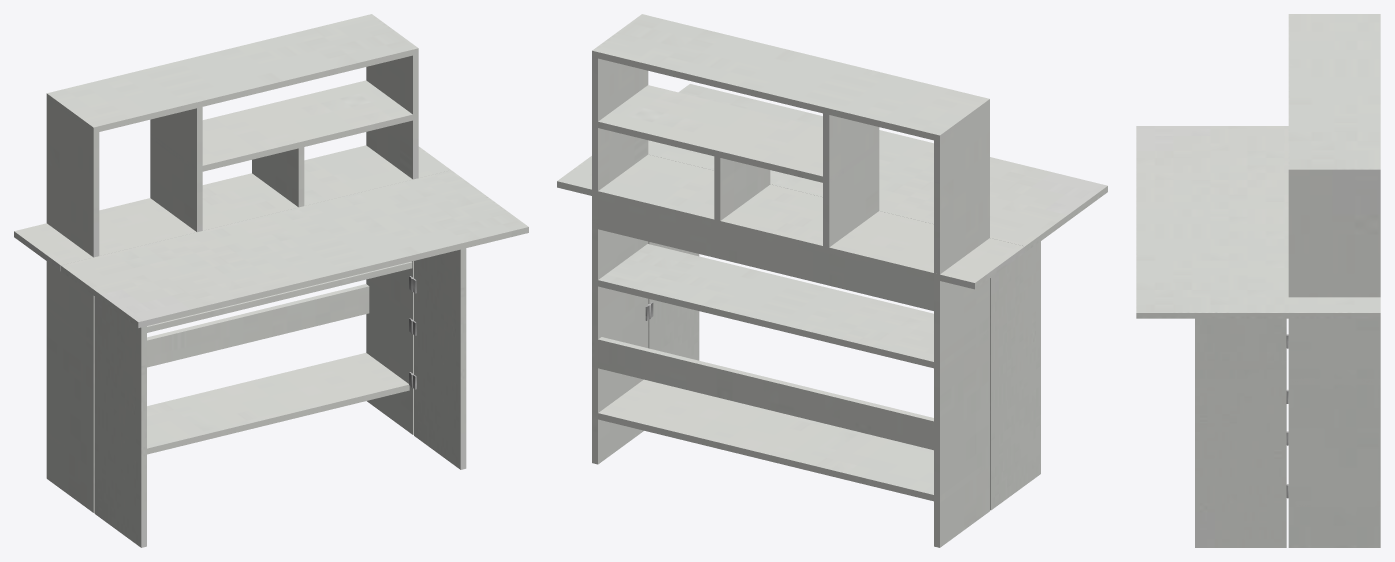
The model's file is study_table.obj.
The picture shows the model from 3 angles, left to right: view 1: azimuth 30°, elevation 25°; view 2: azimuth 150°, elevation 25°; view 3: azimuth 270°, elevation 25°; orthographic projection. The views are drawn at different scales.
Parts seen in each view (by area): view 1: Box006_1, Box004_1, Box012_1, Box016_1, Box017_1; view 2: Box006_1, Box012_1, Box004_1, Box016_1, Box017_1; view 3: Box006_1, Box004_1, Box017_1, Box012_1.
Part boxes in pixels (x1,y1,x2,y2): Box006_1: (46, 14, 418, 512); Box004_1: (14, 145, 528, 327); Box012_1: (46, 261, 412, 466); Box016_1: (94, 296, 146, 547); Box017_1: (414, 248, 466, 469); Box006_1: (592, 14, 989, 547); Box012_1: (592, 190, 989, 502); Box004_1: (557, 84, 1107, 289); Box016_1: (990, 241, 1040, 510); Box017_1: (648, 241, 699, 360); Box006_1: (1288, 14, 1380, 547); Box004_1: (1136, 126, 1380, 318); Box017_1: (1195, 318, 1286, 547); Box012_1: (1289, 378, 1380, 506).
Bounding box in the file's own units: 4.72 × 4.45 × 2.6.
8 materials, 8 textured.
